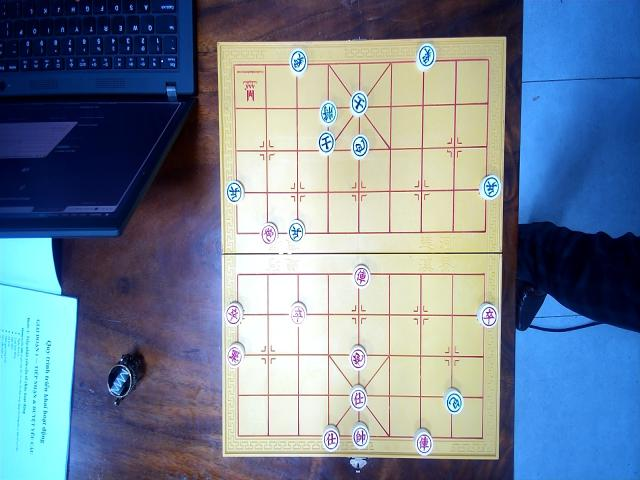piece: (415, 42, 437, 71), (479, 173, 501, 201), (477, 302, 498, 329), (288, 48, 308, 76), (444, 387, 464, 415), (413, 428, 433, 456), (318, 99, 338, 126), (350, 134, 370, 160), (322, 425, 341, 452), (351, 423, 370, 449), (226, 342, 245, 368), (349, 384, 367, 411), (350, 89, 368, 116), (225, 179, 244, 204), (225, 301, 243, 327), (349, 345, 367, 371), (317, 131, 335, 156), (353, 264, 371, 289), (290, 301, 307, 326), (288, 219, 305, 243), (261, 223, 277, 245)
